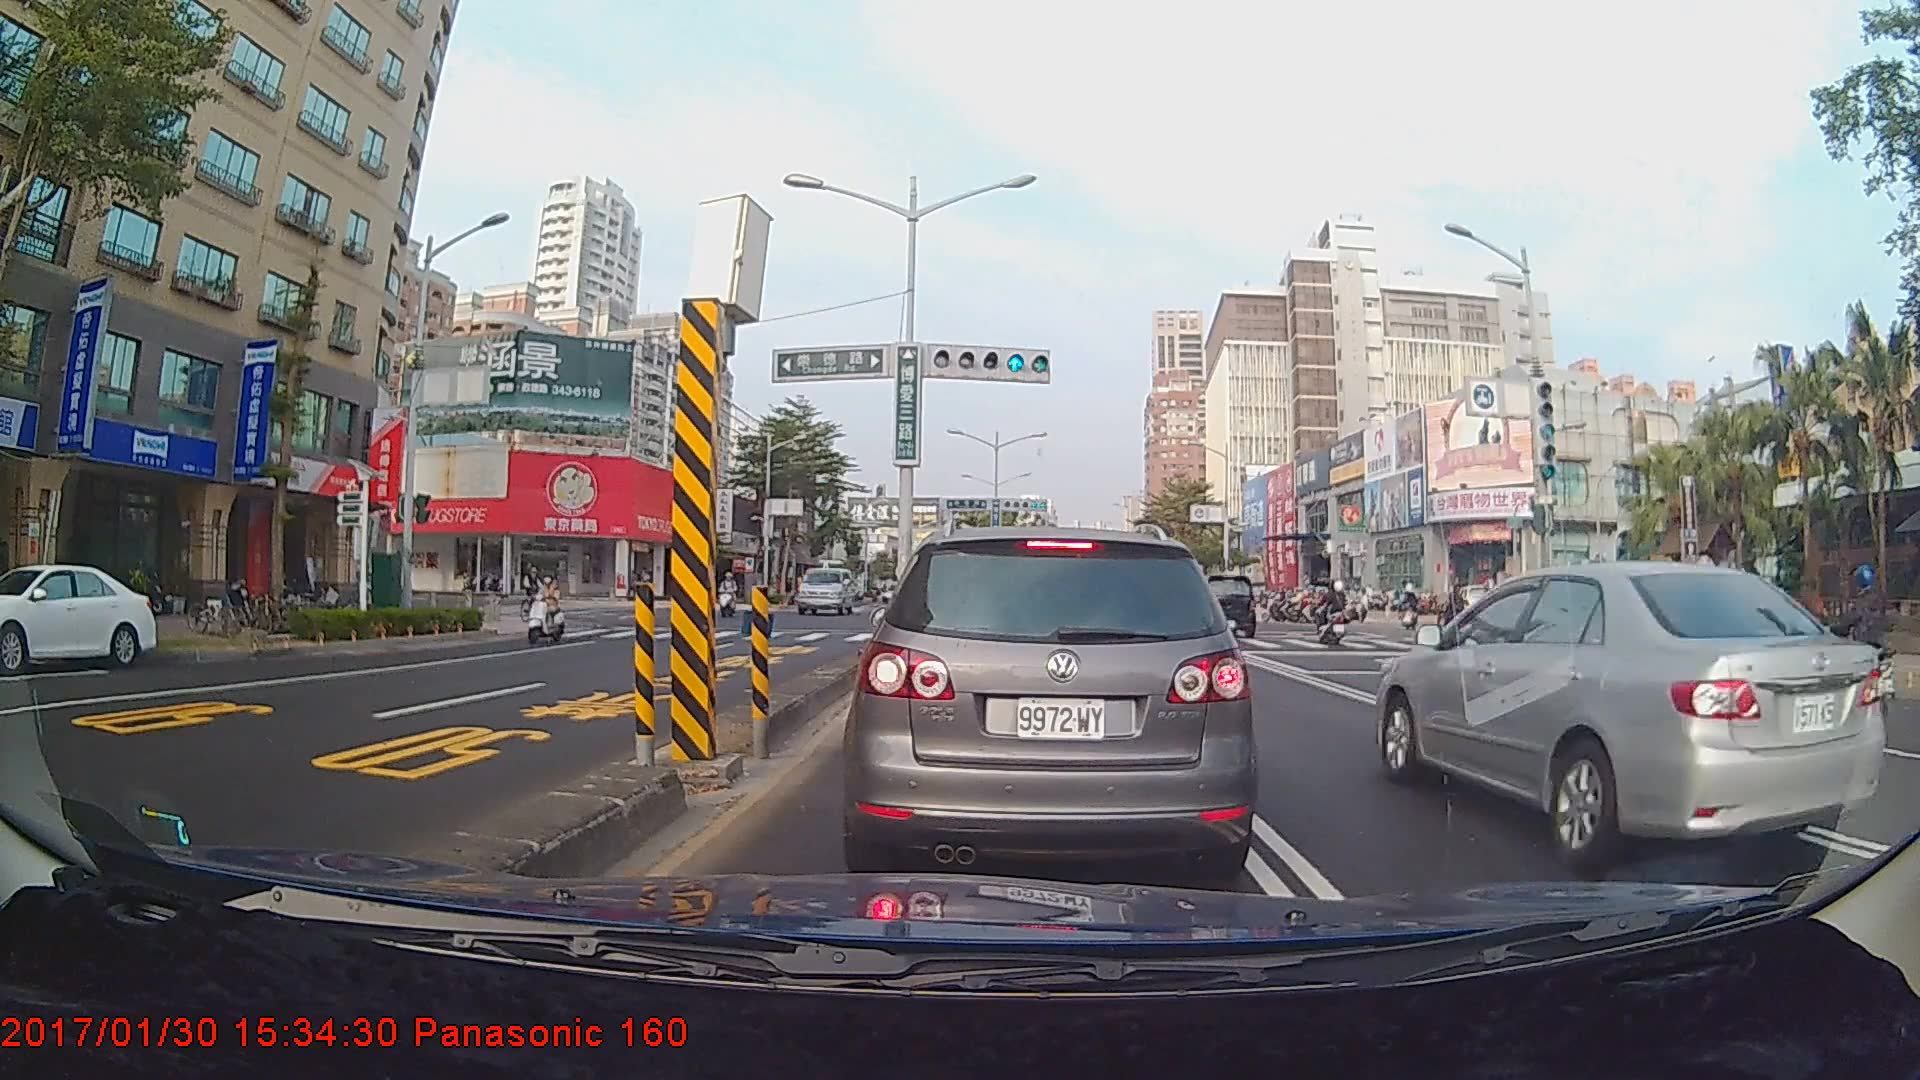rider: (1802, 561, 1899, 728), (523, 570, 578, 650), (1311, 585, 1358, 646), (1436, 582, 1473, 646)
vehicle: (1372, 561, 1886, 869), (854, 524, 1252, 877), (0, 561, 157, 671), (1183, 572, 1256, 636), (795, 567, 856, 616)
